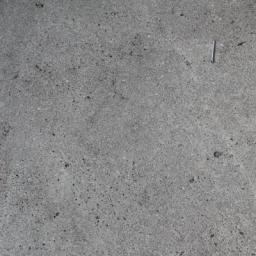FOD: (209, 36, 220, 66)
